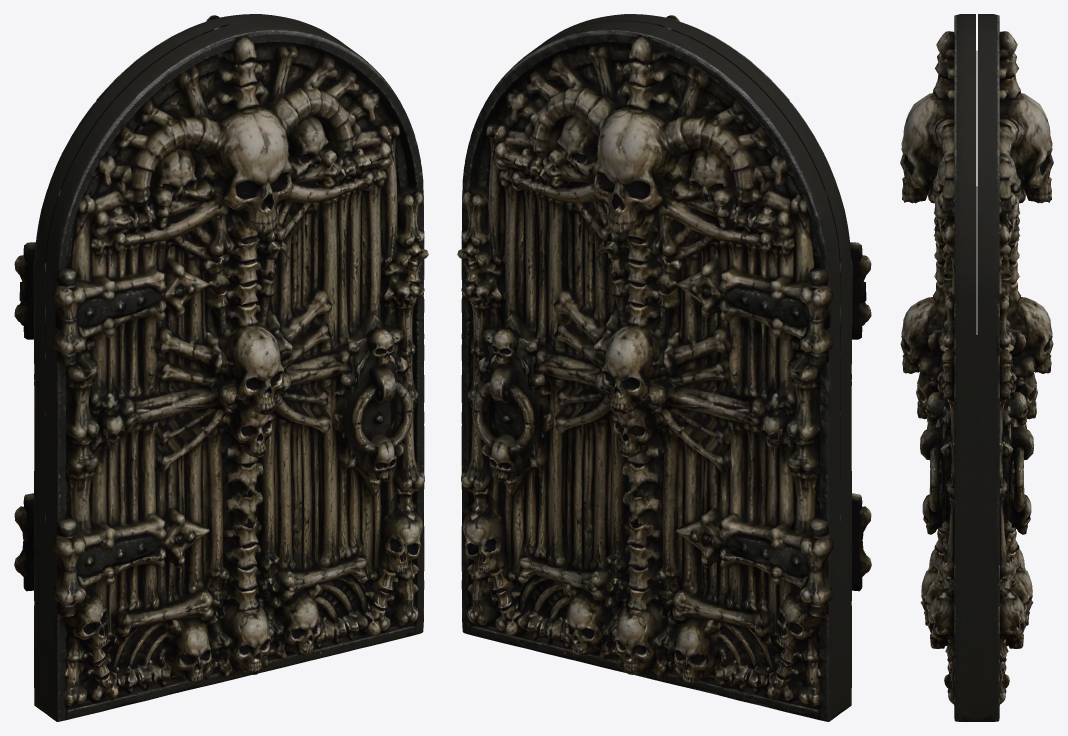
Rendered from Door_evil_large.fbx.
The picture shows the model from 3 angles, left to right: view 1: azimuth 30°, elevation 25°; view 2: azimuth 150°, elevation 25°; view 3: azimuth 270°, elevation 25°; orthographic projection. The views are drawn at different scales.
Parts seen in each view (by area): view 1: Door_evil; view 2: Door_evil; view 3: Door_evil.
Part boxes in pixels (box(x1,y1,x2,y2)): Door_evil: box(14, 14, 428, 721); Door_evil: box(457, 14, 871, 721); Door_evil: box(900, 14, 1053, 721).
Size of the model in its own units: 143 by 234 by 53.51.
1 material, 1 textured.
